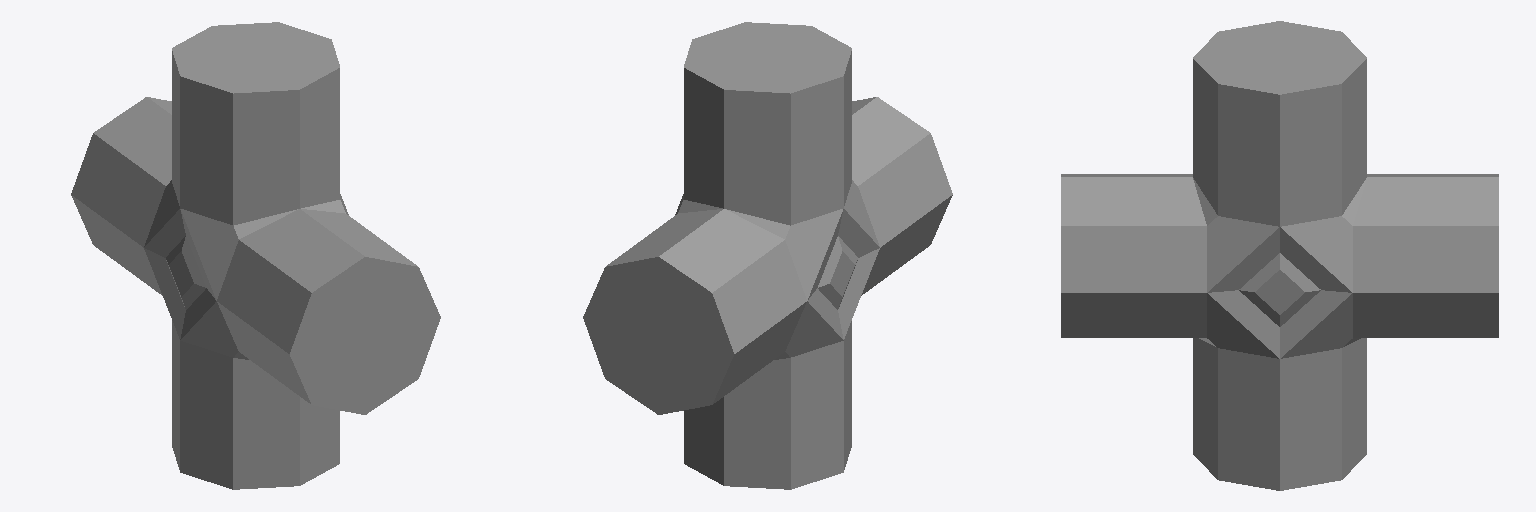
The model's file is AntennaIntersection.obj.
3 renders of one model, left to right at view 1: azimuth 30°, elevation 25°; view 2: azimuth 150°, elevation 25°; view 3: azimuth 270°, elevation 25°, orthographic.
Visible parts, largest first — view 1: Atenna_Hub_Cylinder.002; view 2: Atenna_Hub_Cylinder.002; view 3: Atenna_Hub_Cylinder.002.
Boxes of the visible parts, x1=… form: Atenna_Hub_Cylinder.002: x1=71, y1=22, x2=440, y2=489; Atenna_Hub_Cylinder.002: x1=583, y1=22, x2=952, y2=489; Atenna_Hub_Cylinder.002: x1=1061, y1=21, x2=1498, y2=490.
Bounding box in the file's own units: 0.4 × 1 × 1.